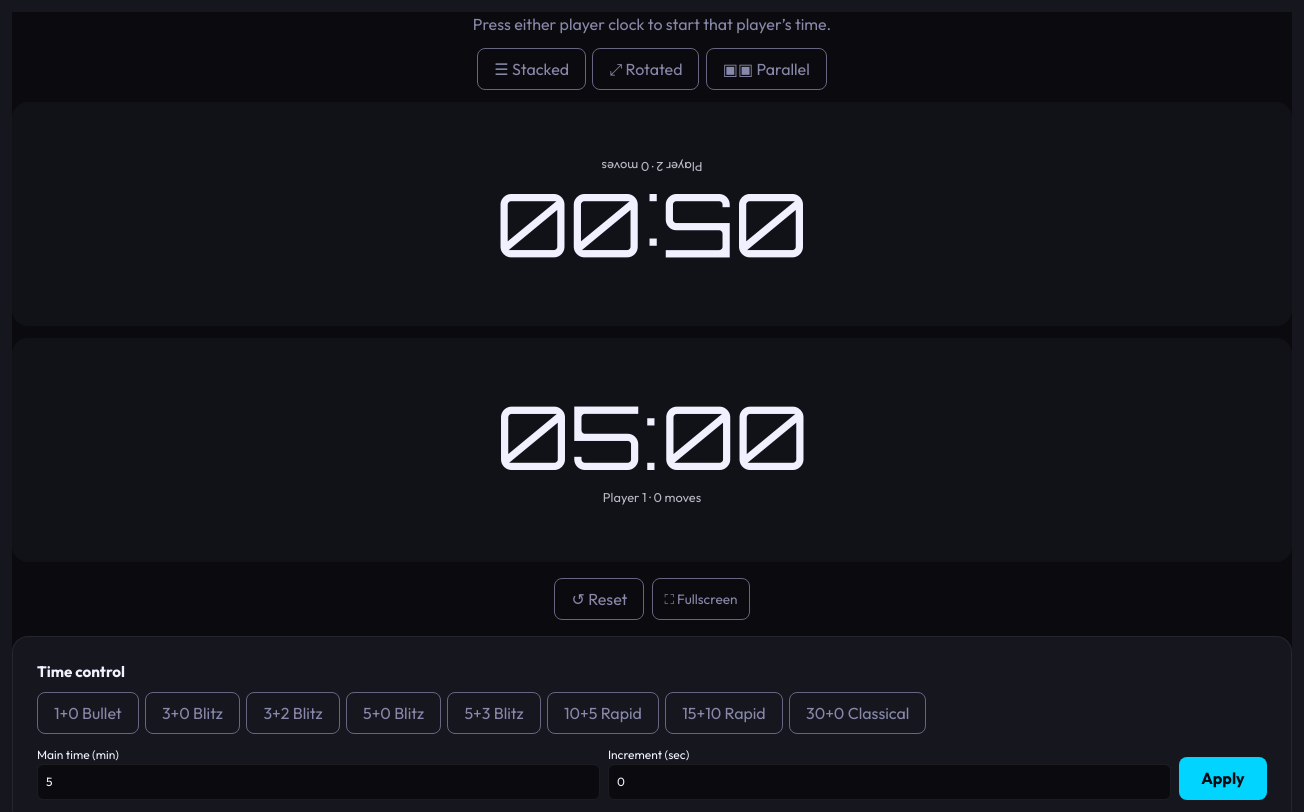
ChessClockClient input behavior › supports keyboard activation and switches only from the active clock
Click the button "05:00 Player 1 · 0 moves".
click(89, 450)  # box top-left (12, 338), bottom-right (1292, 562)
Wait 100 ms
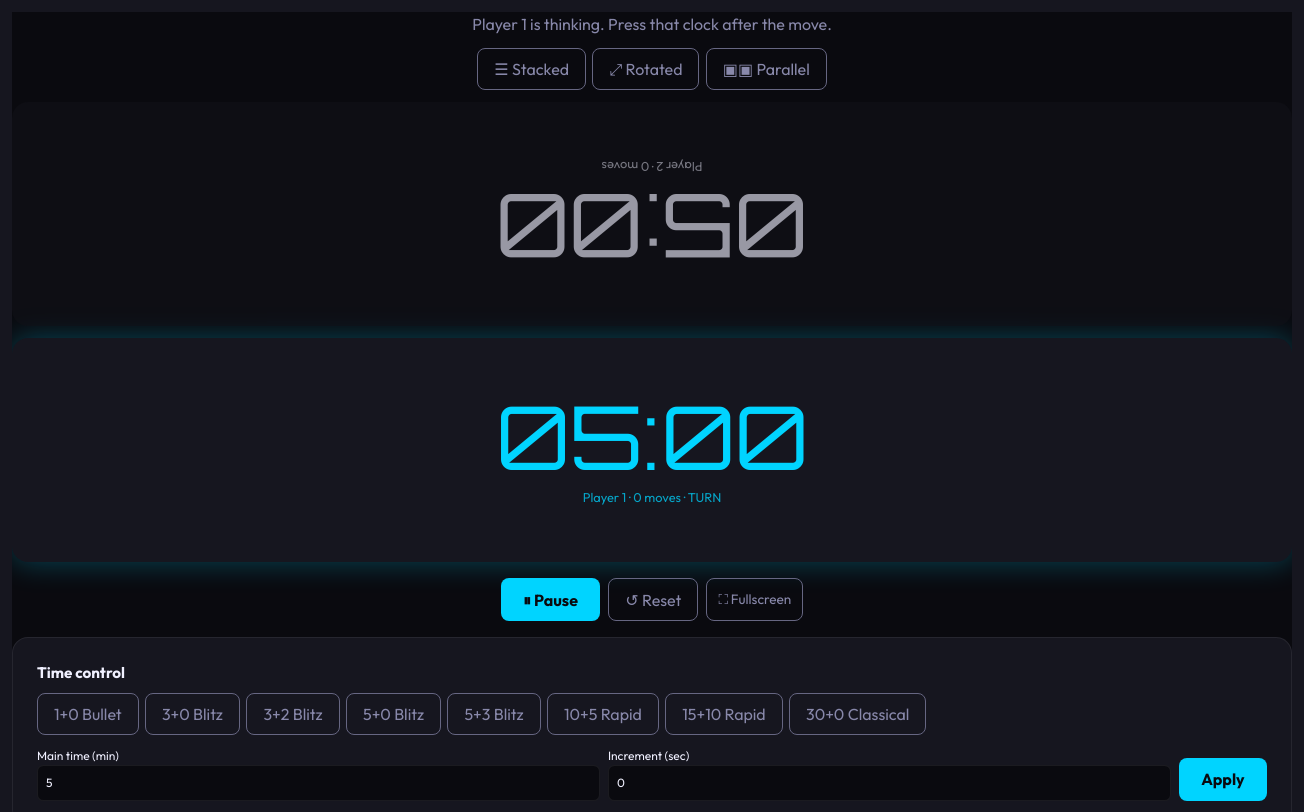
Result: the text "Player 1 is thinking. Press that clock after the move." is shown at top-left (472, 14), bottom-right (832, 34)
Press the mouse on the button "05:00 Player 1 · 0 moves · TURN" at (652, 450), box top-left (12, 338), bottom-right (1292, 562)
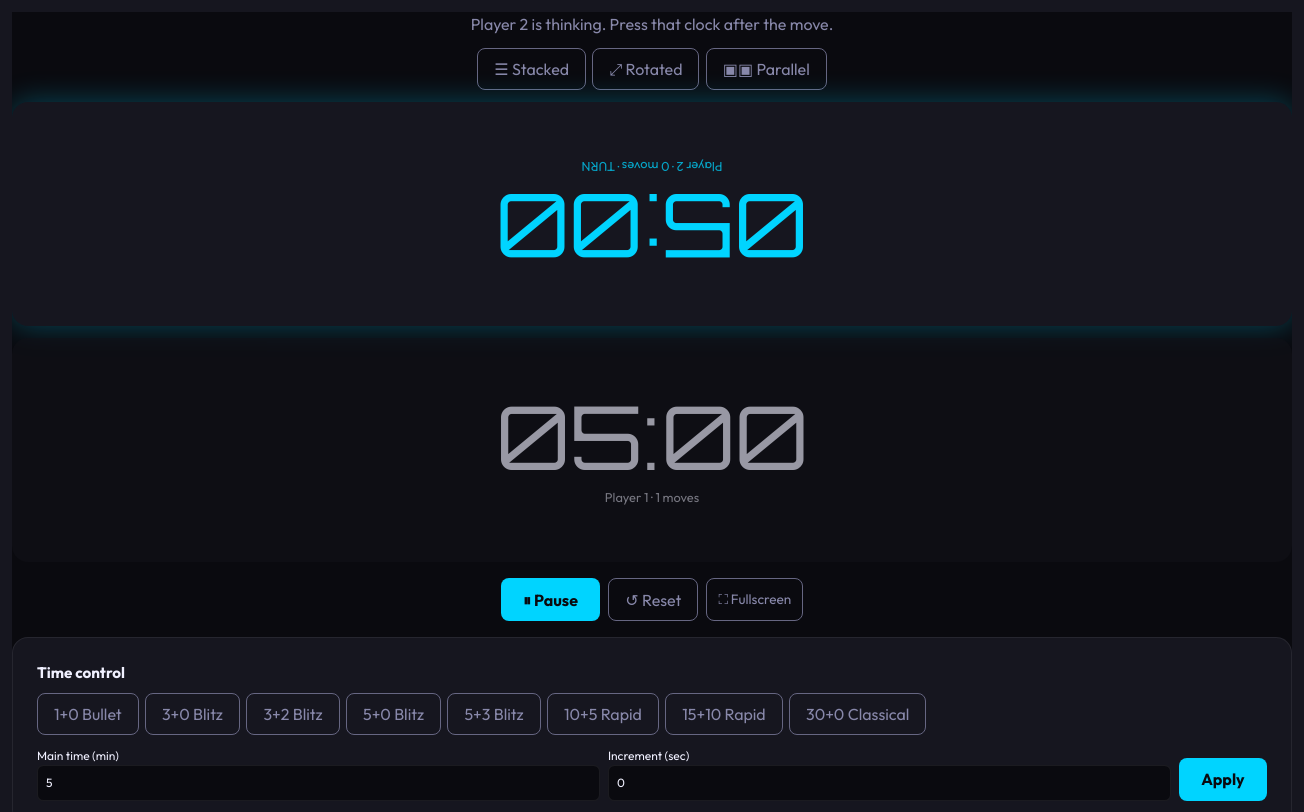
Result: the text "Player 2 is thinking. Press that clock after the move." is shown at top-left (471, 14), bottom-right (833, 34)
